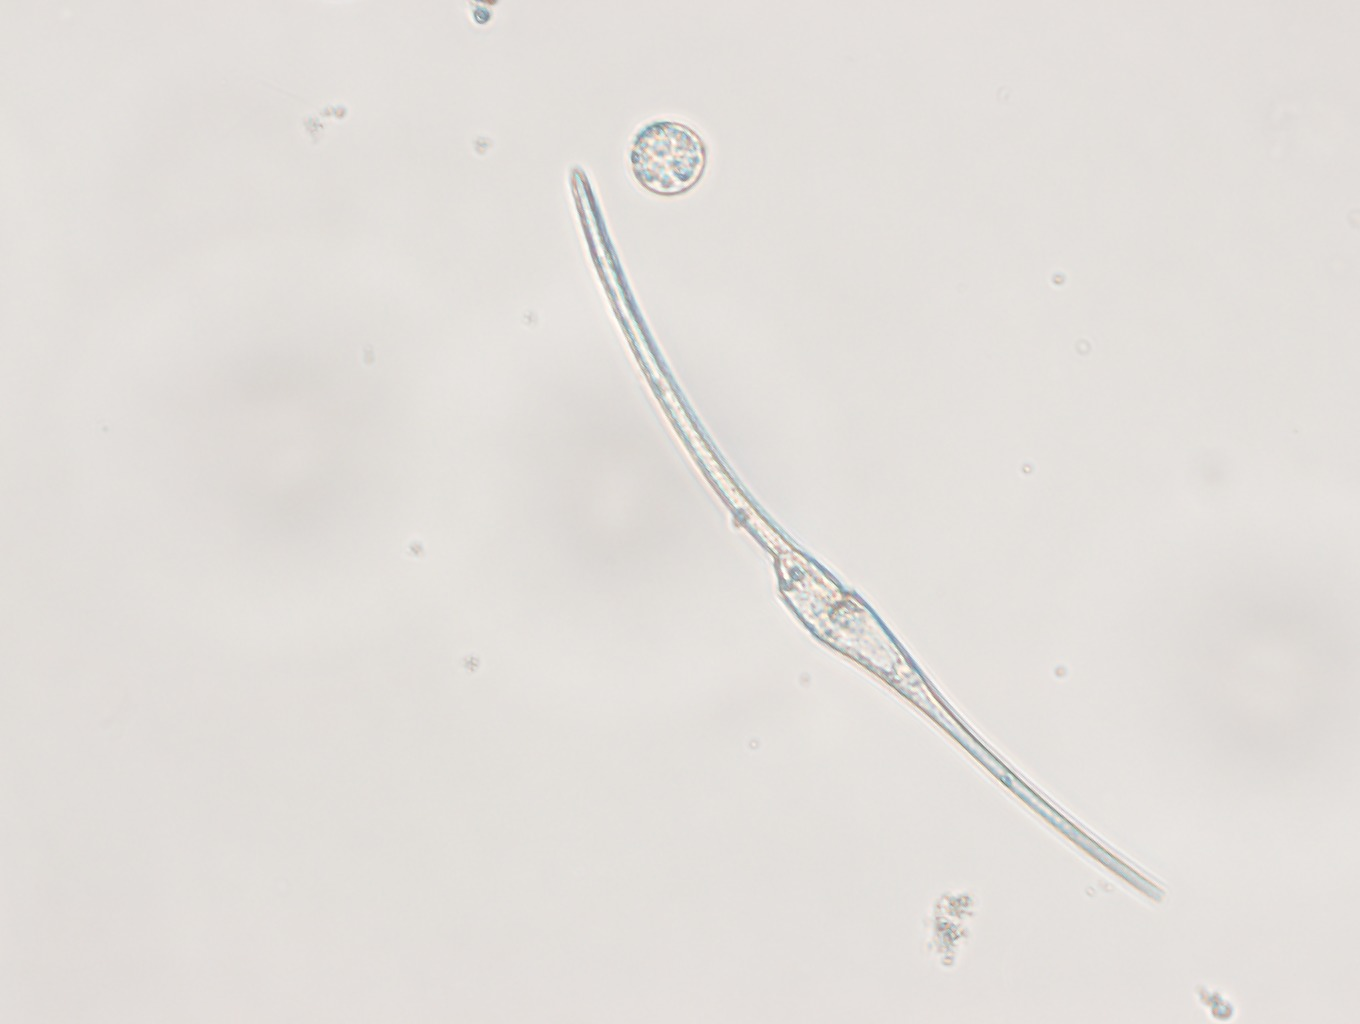ceratium fusus: (568, 165, 1159, 901)
